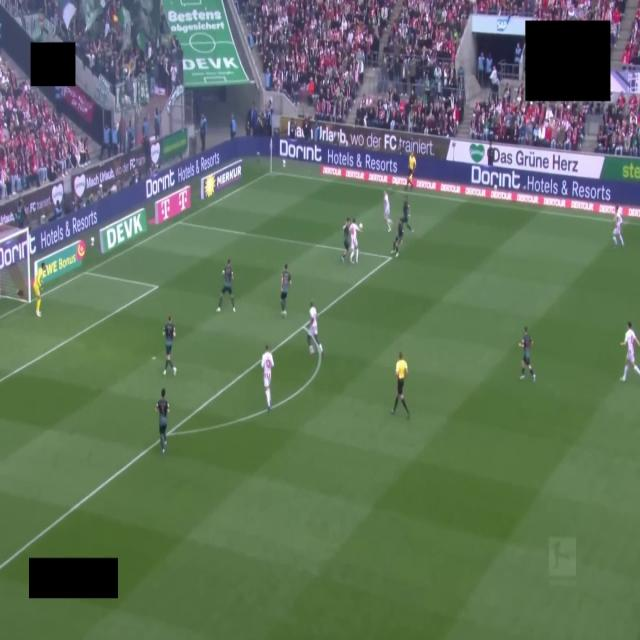ball: (359, 223, 362, 230)
player: (621, 322, 639, 381), (217, 259, 235, 311), (519, 327, 535, 381), (156, 389, 169, 454), (308, 302, 323, 356), (261, 345, 273, 410), (163, 316, 176, 375), (33, 264, 45, 317), (280, 264, 291, 316), (350, 218, 361, 263), (613, 207, 624, 247), (392, 219, 403, 256), (401, 197, 412, 231), (342, 217, 350, 262), (384, 192, 391, 232)
referee: (392, 352, 409, 418)
